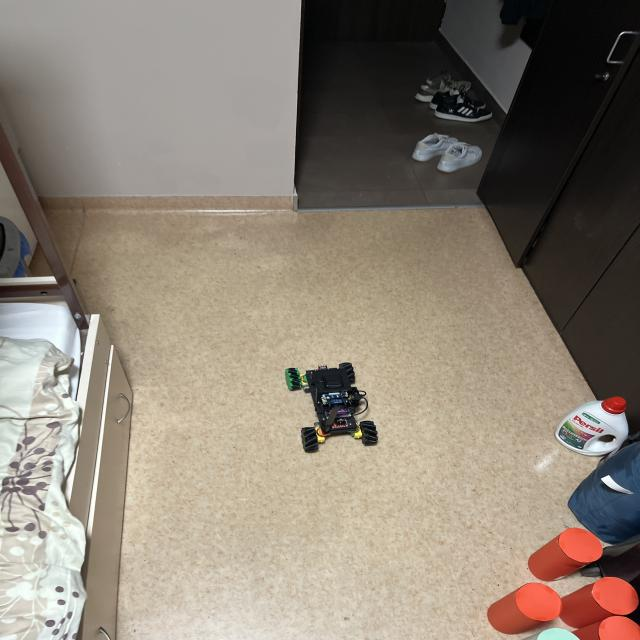robot: (286, 363, 378, 452)
